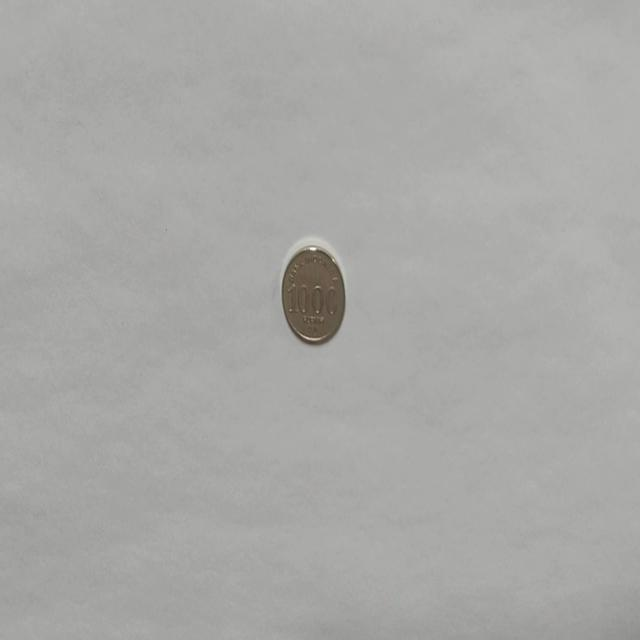seribu rupiah koin: (280, 237, 346, 345)
